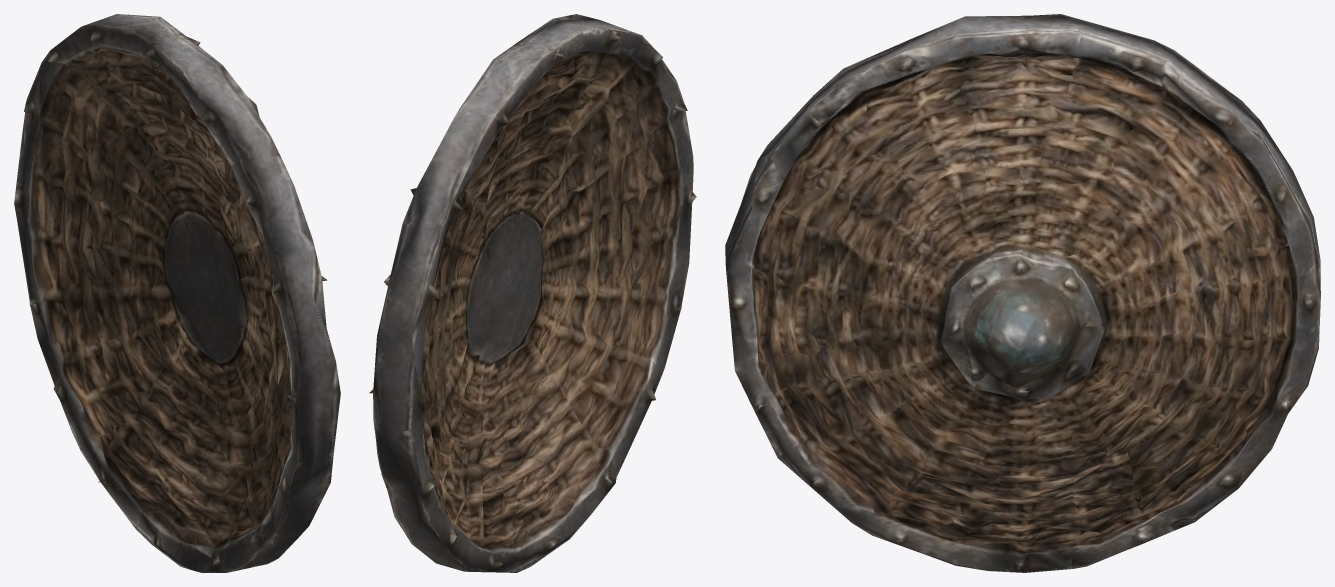
The model's file is shield.glb.
The picture shows the model from 3 angles, left to right: view 1: azimuth 30°, elevation 25°; view 2: azimuth 150°, elevation 25°; view 3: azimuth 270°, elevation 25°; orthographic projection. The views are drawn at different scales.
Visible parts, largest first — view 1: tripo_node_a94dc382-704d-4263-b92a-b4dd22883182; view 2: tripo_node_a94dc382-704d-4263-b92a-b4dd22883182; view 3: tripo_node_a94dc382-704d-4263-b92a-b4dd22883182.
Part boxes in pixels (x1,y1,x2,y2): tripo_node_a94dc382-704d-4263-b92a-b4dd22883182: (14,14,340,572); tripo_node_a94dc382-704d-4263-b92a-b4dd22883182: (369,14,696,572); tripo_node_a94dc382-704d-4263-b92a-b4dd22883182: (725,14,1320,572).
Bounding box in the file's own units: 0.2788 × 0.9652 × 0.9683.
Materials: 1 (1 with a texture image).
